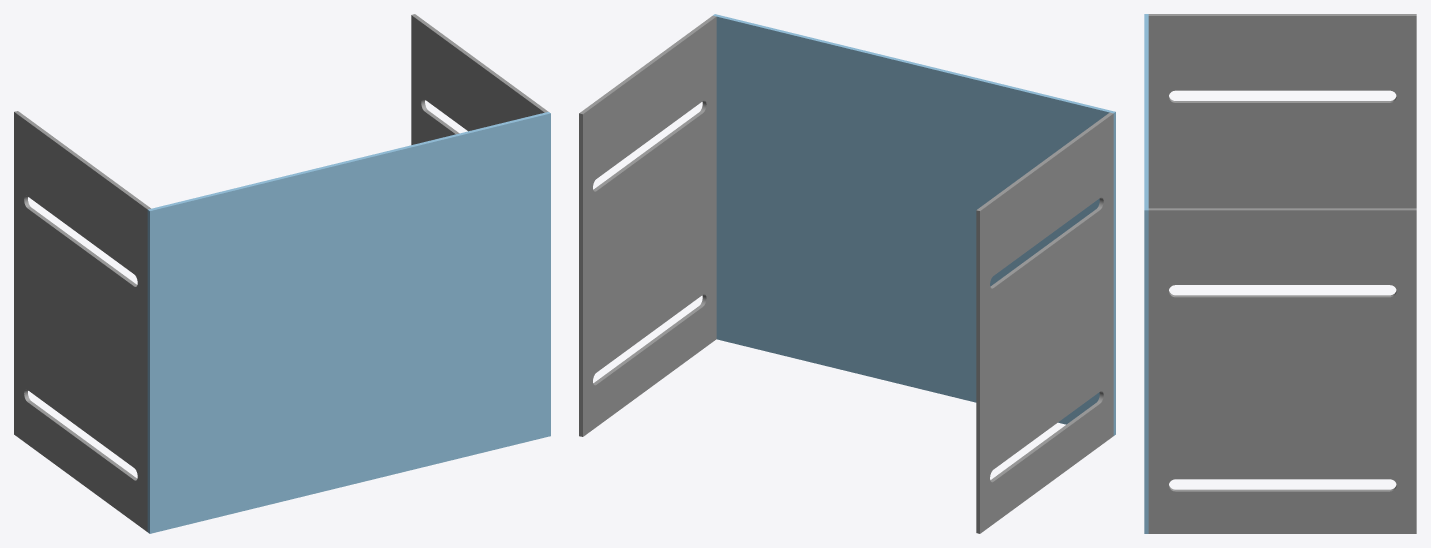
The model's file is hopperExtension.glb.
The picture shows the model from 3 angles, left to right: view 1: azimuth 30°, elevation 25°; view 2: azimuth 150°, elevation 25°; view 3: azimuth 270°, elevation 25°; orthographic projection.
Visible parts, largest first — view 1: Part 1, Part 2 (×2); view 2: Part 1, Part 2 (×2); view 3: Part 2 (×2), Part 1.
Part boxes in pixels (x1,y1,x2,y2): Part 1: [147, 112, 550, 533]; Part 2 (×2): [14, 14, 548, 531]; Part 1: [713, 14, 1115, 435]; Part 2 (×2): [579, 15, 1113, 533]; Part 2 (×2): [1148, 14, 1416, 533]; Part 1: [1144, 14, 1148, 533].
Size of the model in its own units: 0.6604 by 0.508 by 0.3873.
